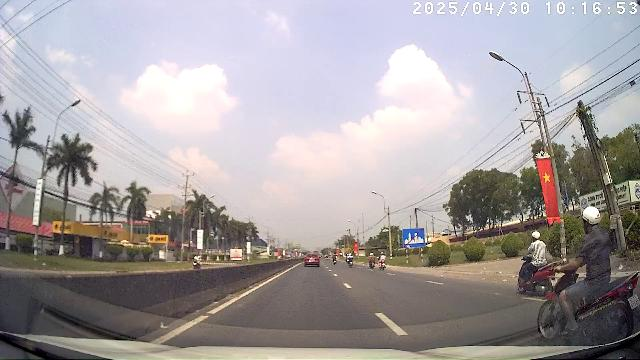421-ket-thuc-khu-dong-dan-cu: (403, 229, 425, 246)
